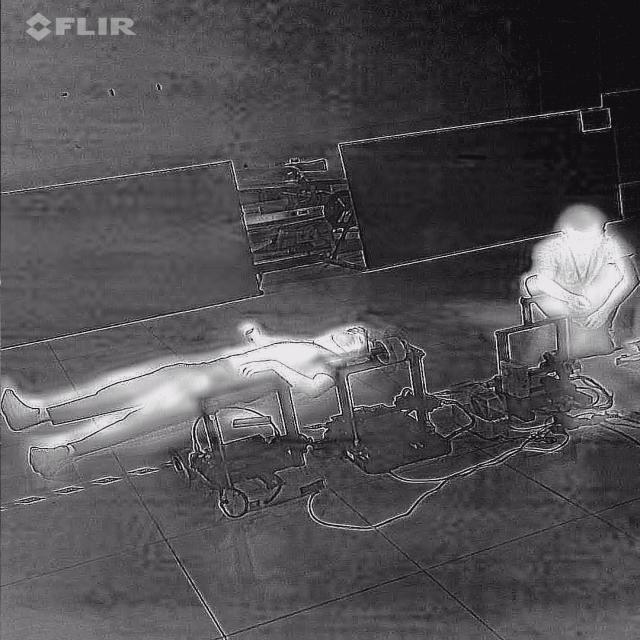Victim: (2, 317, 383, 488), (508, 188, 640, 358)
